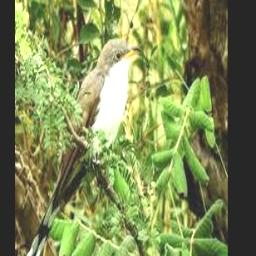Cuckoo: (24, 39, 143, 256)
